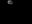person: (8, 1, 14, 9)
